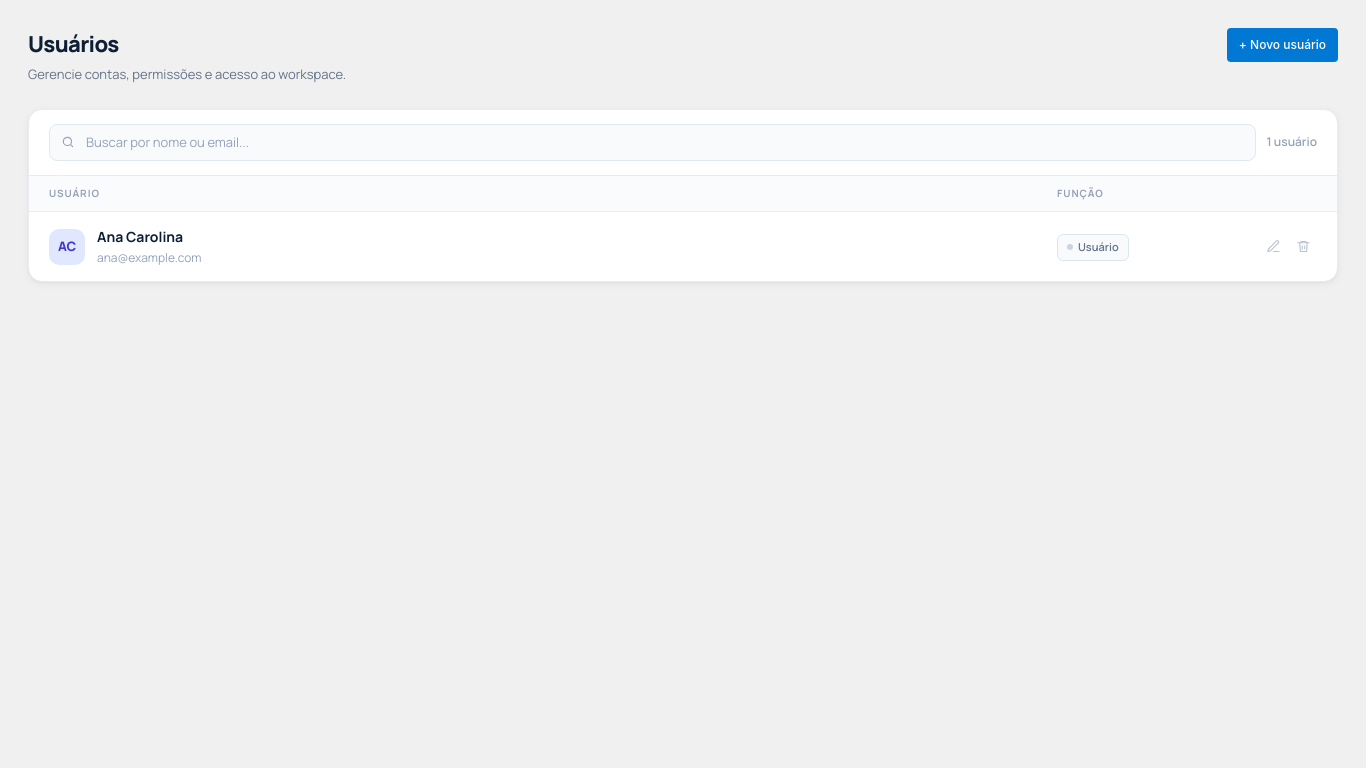
Test: UsersPage › clicar em editar NÃO navega
Expected: the link "Ana Carolina" is shown, [97, 227, 183, 246]
What coordinates should you click on to do the following:
click the button named "Editar Ana Carolina"
I would click on:
 (1273, 246)
Its box is [1259, 232, 1287, 260].
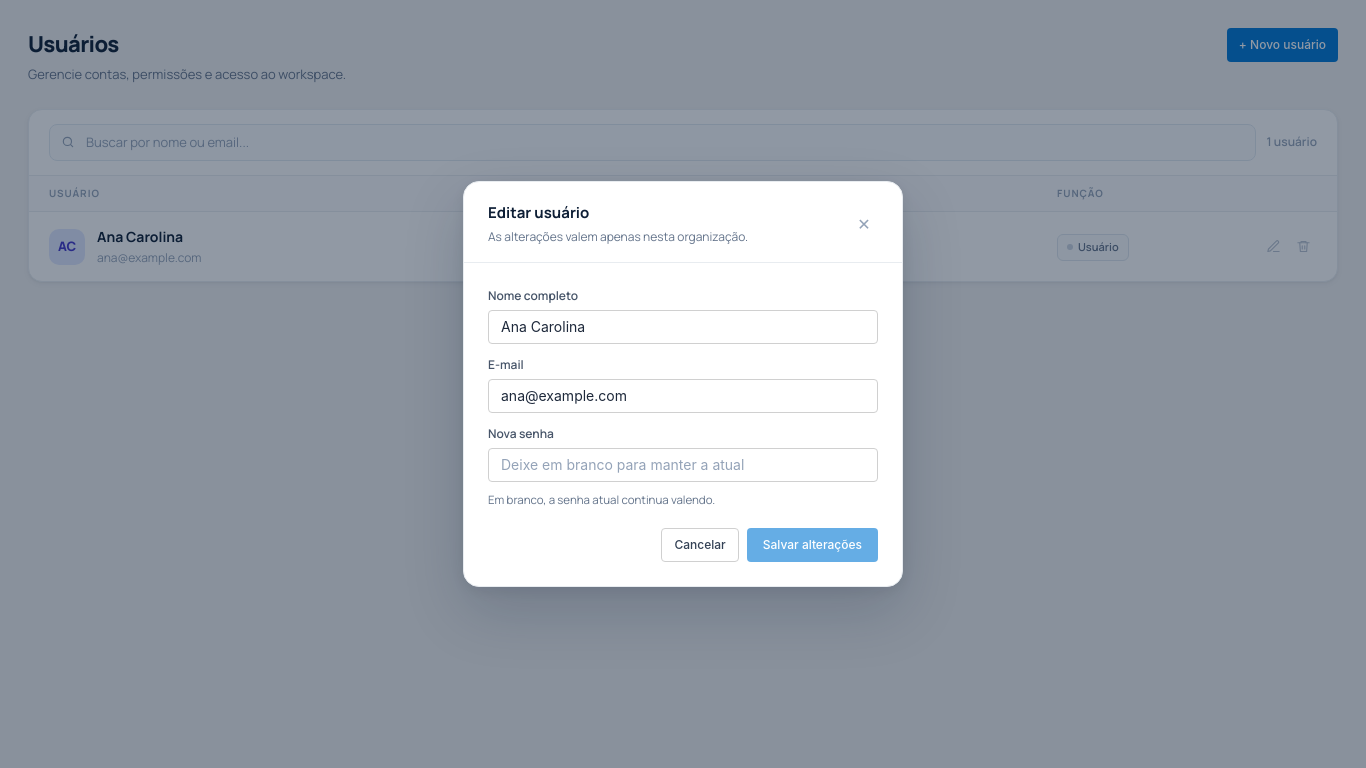
Expected: the text "Editar usuário" is shown, [488, 202, 589, 223]
